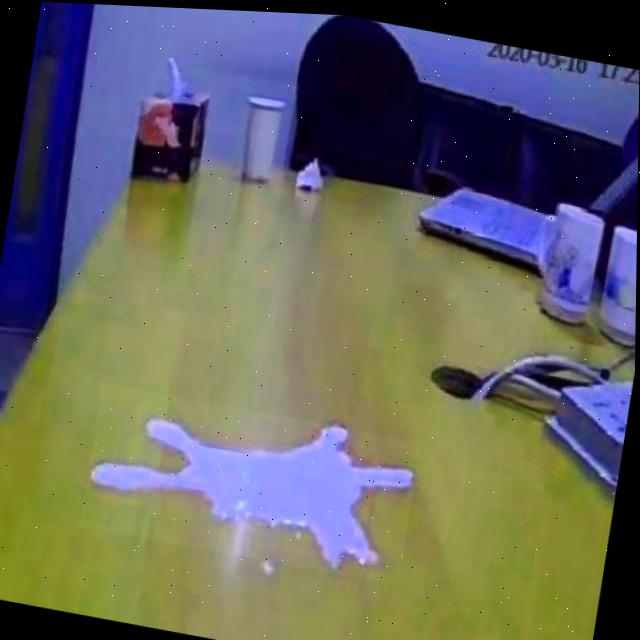spillage: (89, 418, 415, 569)
